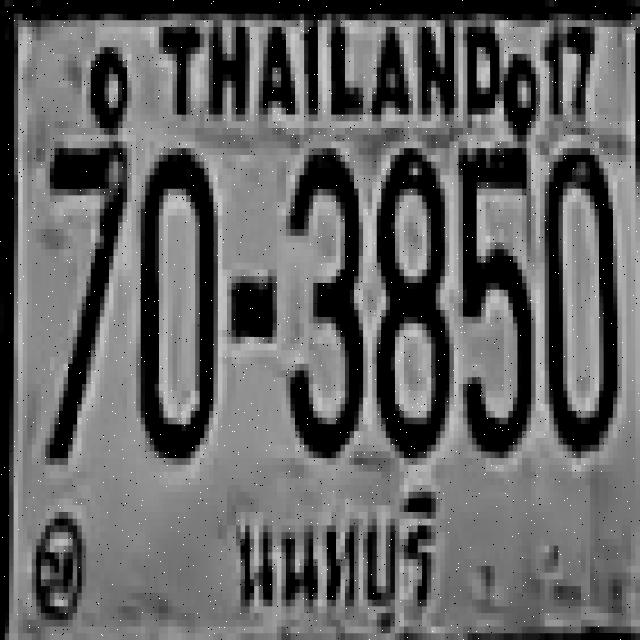0: (136, 148, 214, 452), (540, 145, 612, 448), (540, 145, 612, 421)
3: (286, 148, 358, 452)
5: (459, 142, 531, 452)
7: (46, 142, 122, 458)
8: (372, 148, 444, 452)
Nonthaburi: (226, 477, 442, 640)
